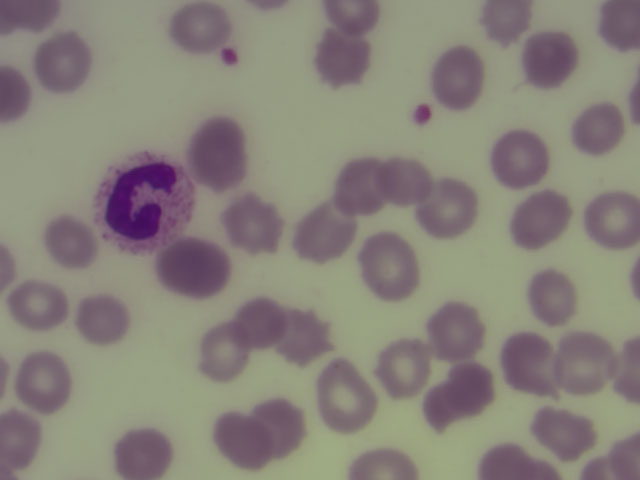Platelets: (213, 42, 243, 70), (409, 99, 436, 130)
RBC: (363, 226, 416, 301), (315, 362, 372, 431), (501, 328, 558, 393), (557, 332, 615, 394), (422, 179, 481, 236), (584, 189, 640, 249), (160, 241, 227, 291), (194, 119, 247, 181), (432, 47, 483, 106), (255, 398, 303, 452), (1, 407, 45, 465), (1, 59, 35, 131), (20, 352, 67, 404), (477, 440, 538, 480), (381, 159, 432, 206), (333, 159, 384, 206), (539, 410, 590, 457), (529, 271, 580, 318), (518, 196, 569, 243), (299, 210, 350, 257), (439, 366, 490, 413), (431, 305, 482, 352), (378, 343, 429, 390), (217, 413, 268, 460), (279, 312, 330, 359), (233, 297, 284, 344), (197, 331, 248, 378), (118, 431, 169, 478), (493, 134, 544, 181), (573, 105, 624, 152), (526, 35, 577, 82), (315, 32, 366, 79), (173, 2, 224, 49), (76, 296, 127, 343), (13, 281, 64, 328), (45, 216, 96, 263), (228, 199, 279, 246), (41, 39, 92, 86), (479, 1, 530, 47), (352, 443, 415, 480), (598, 1, 640, 54), (605, 337, 640, 397), (603, 433, 640, 480), (2, 1, 62, 29), (324, 1, 376, 29)
WBC: (95, 150, 192, 255)
